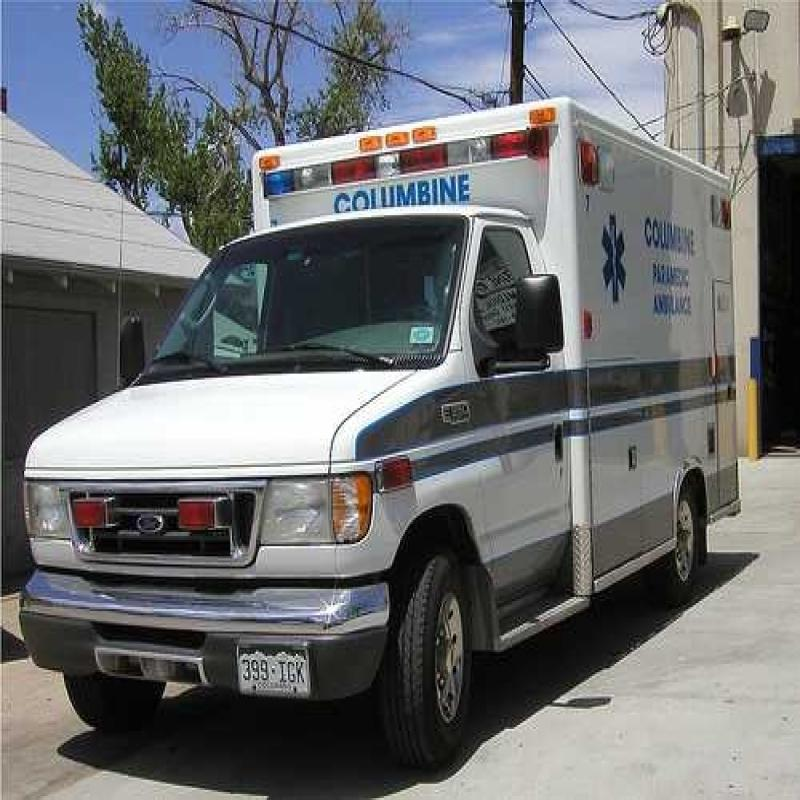AmbulanceSiren: (250, 134, 556, 218)
